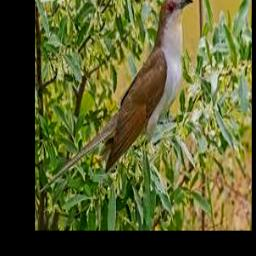Cuckoo: (41, 0, 194, 192)
